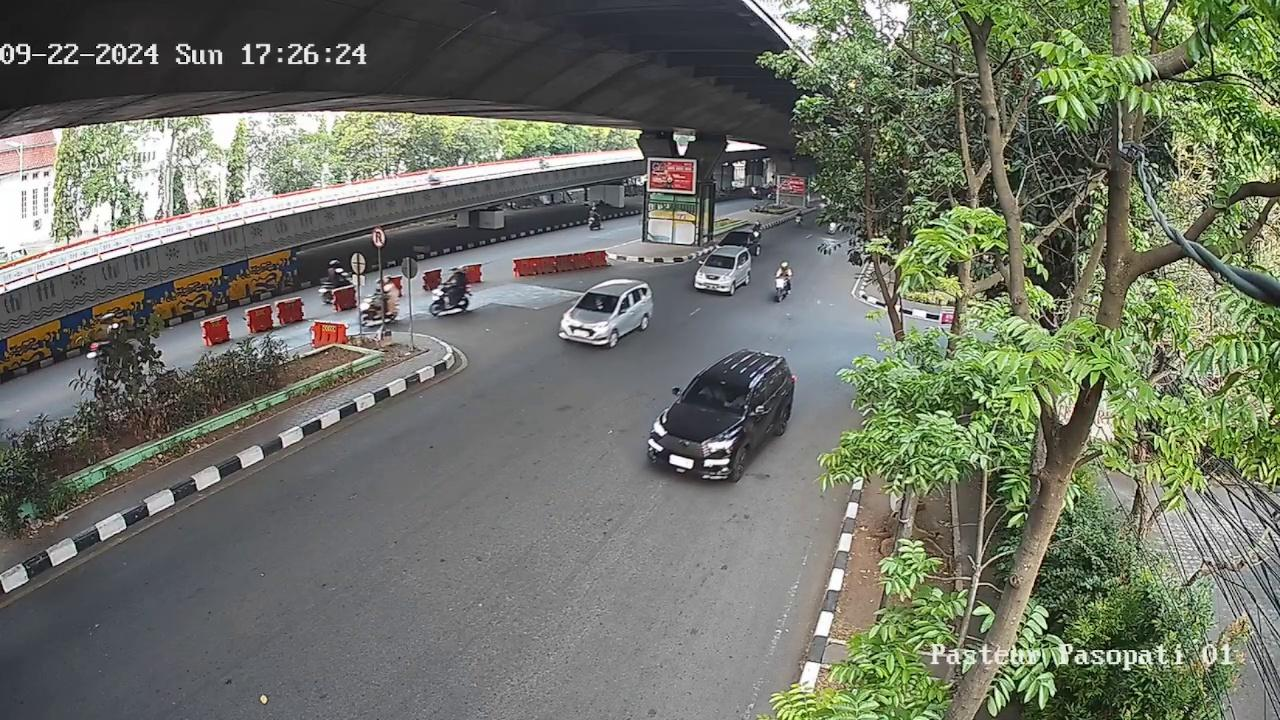pakai: (701, 382, 725, 402)
windshield: (681, 377, 753, 411), (574, 292, 618, 313), (704, 254, 736, 269)
